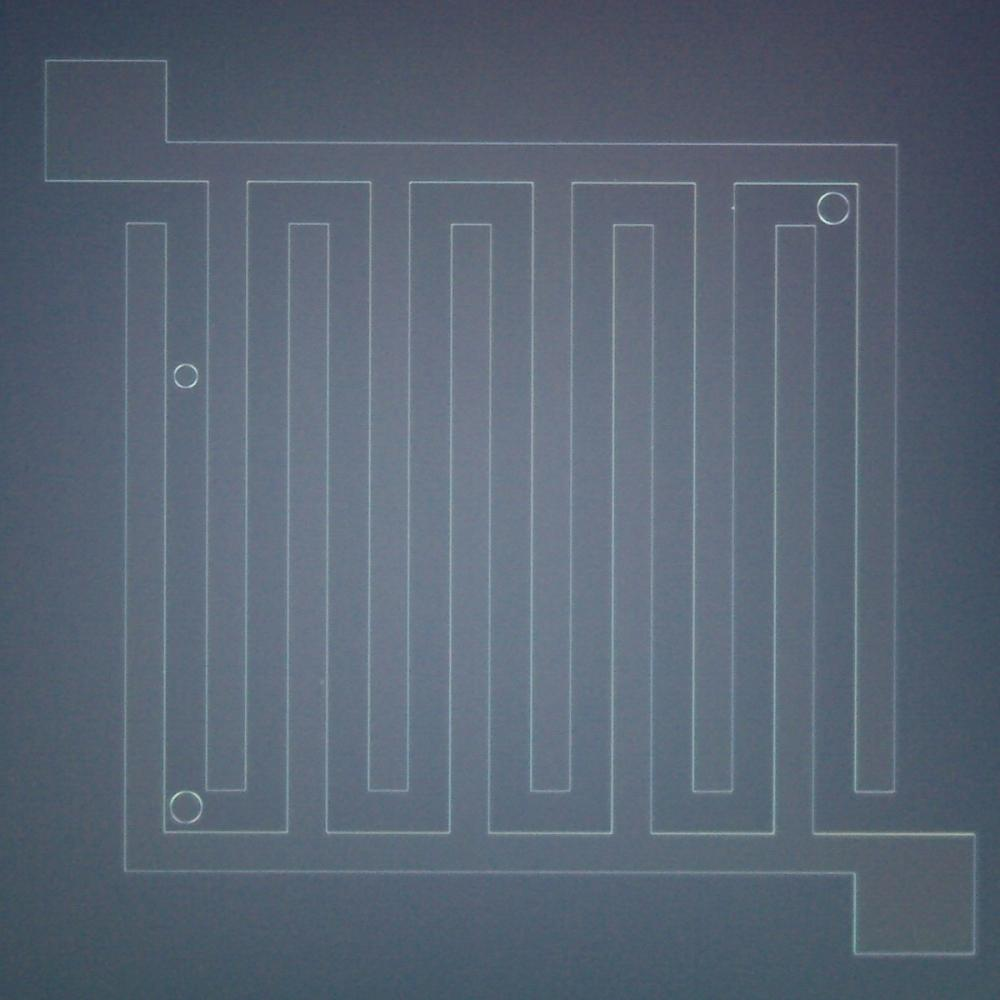dot: (731, 206, 735, 210)
